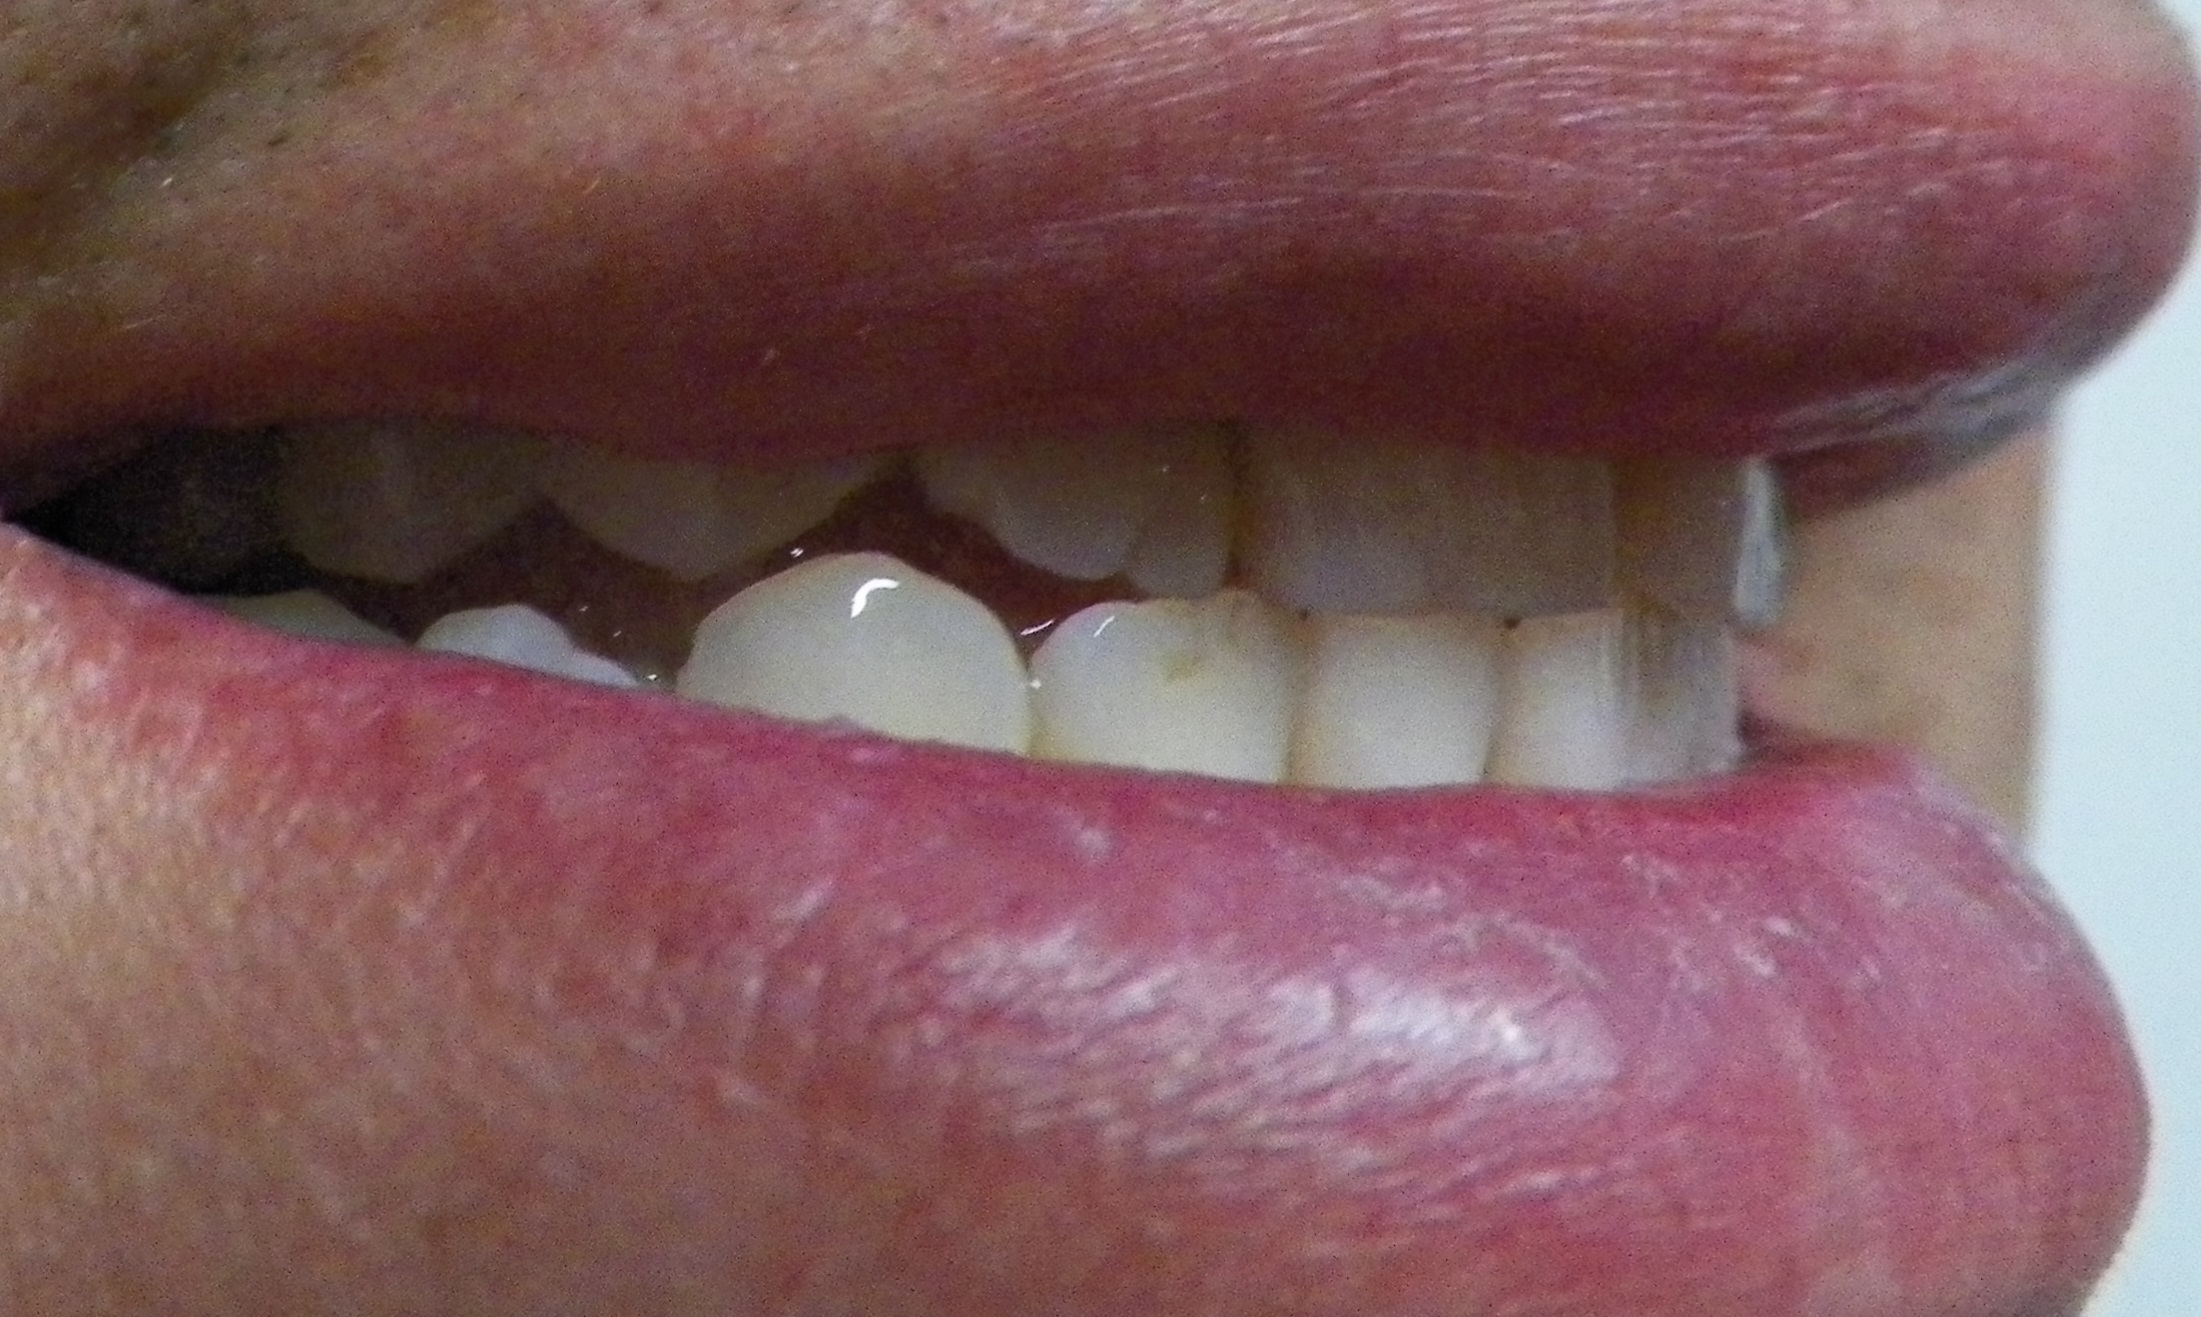boca: (107, 437, 1750, 803)
